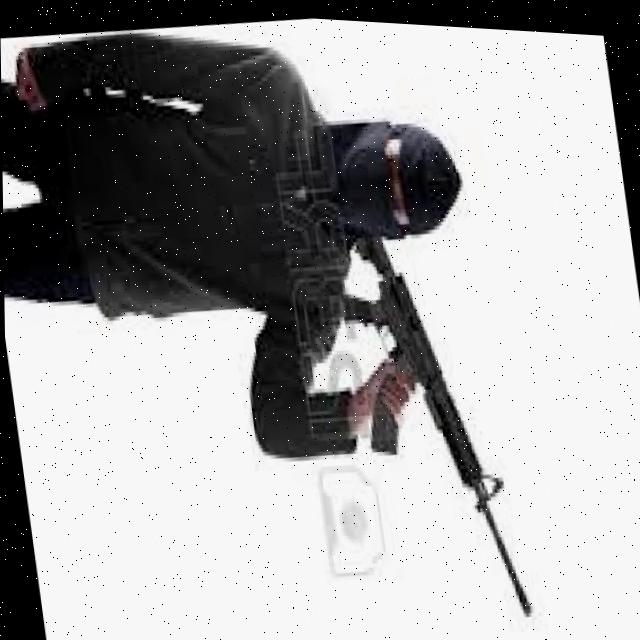firearm: (331, 212, 532, 626)
